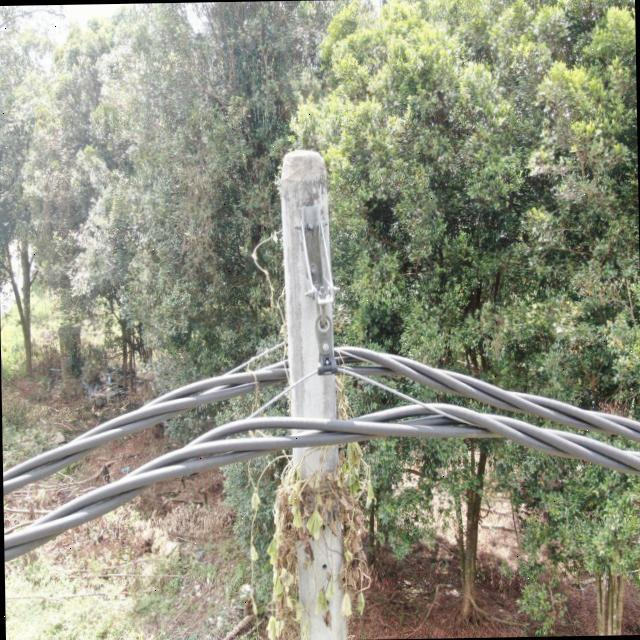critical vegetation: (234, 379, 380, 640)
